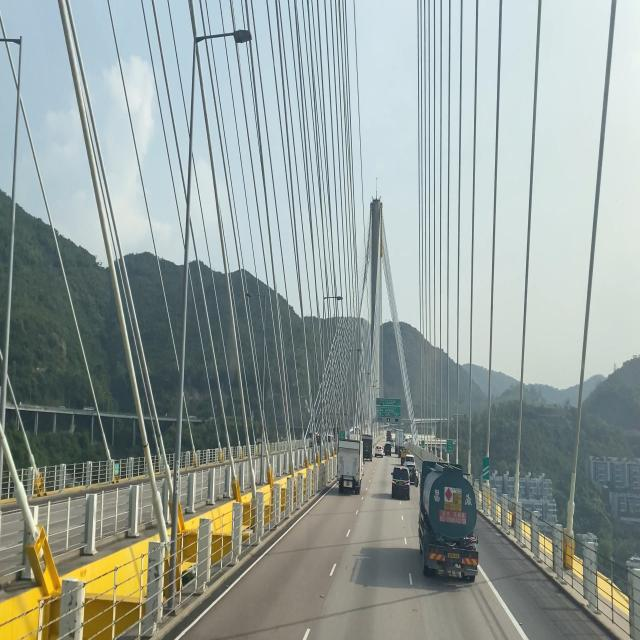Vehicle: (417, 459, 479, 580), (332, 436, 366, 496), (391, 460, 410, 503)
